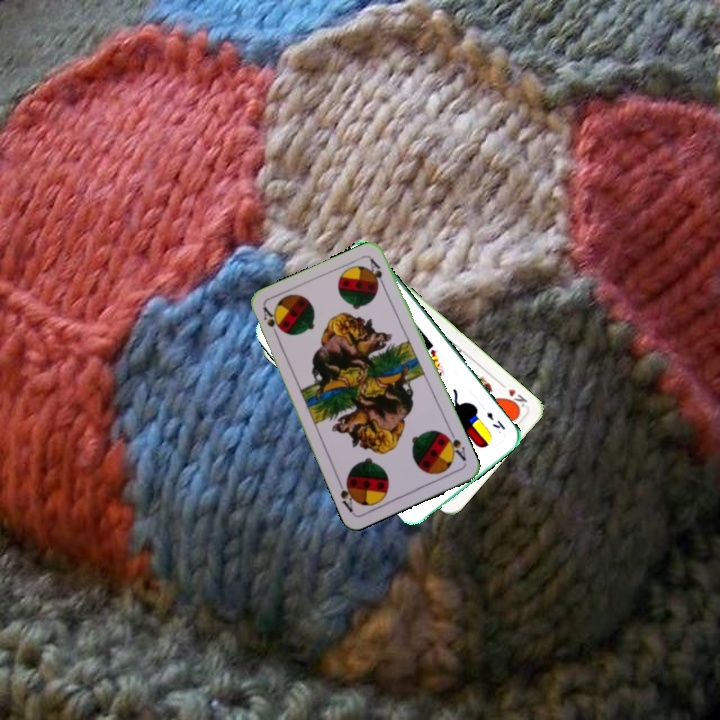EK: (483, 408, 508, 432)
HK: (502, 385, 530, 413)
SA: (440, 427, 469, 464), (258, 303, 284, 342)
